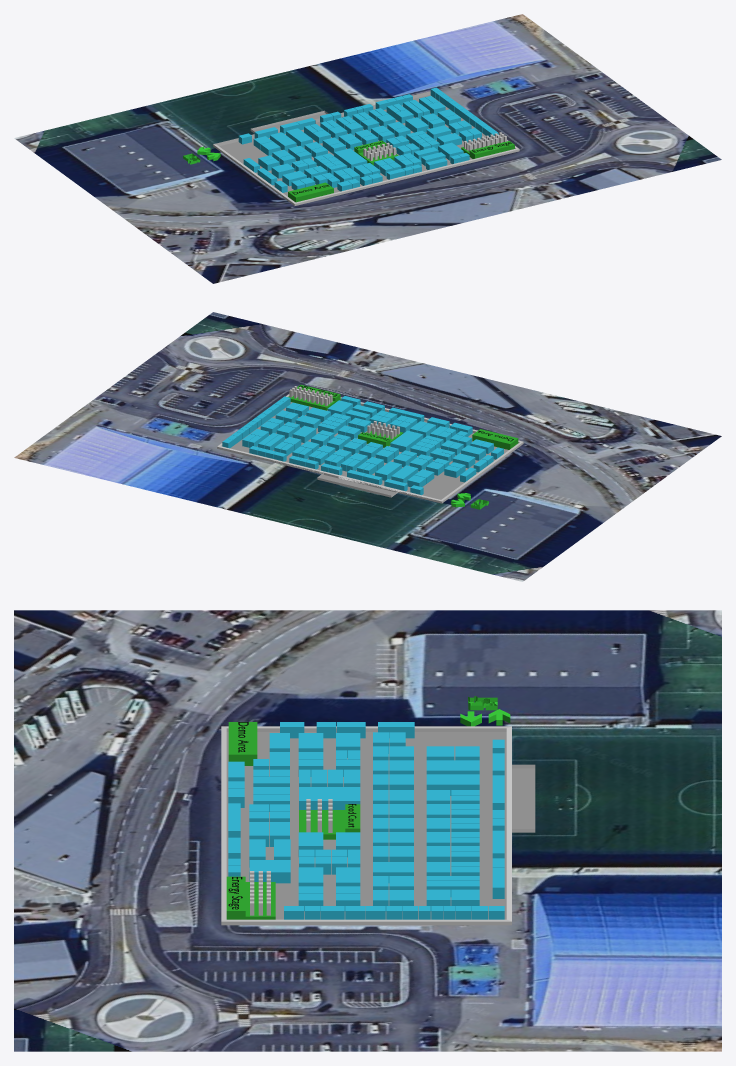
The model's file is OTD Tech Days _Hall_B.glb.
3 renders of one model, top to bottom at view 1: azimuth 30°, elevation 25°; view 2: azimuth 150°, elevation 25°; view 3: azimuth 270°, elevation 25°, orthographic. The views are drawn at different scales.
Visible parts, largest first — view 1: Plane, Logistikk porter_curve_, Logistikk porter_curve_.001, Demo_Area.B-1600, Energy_stage.B-1350; view 2: Plane, Logistikk porter_curve_.001, Logistikk porter_curve_, Demo_Area.B-1600, Energy_stage.B-1350, BOOTHLAYER_curve_.B-4040; view 3: Plane, Logistikk porter_curve_.001, Logistikk porter_curve_, Energy_stage.B-1350, Food_Court.B-4050, BOOTHLAYER_curve_.B-4040, Demo_Area.B-1600, Emergency Exit_curve_.002, BOOTHLAYER_curve_.B-2035, BOOTHLAYER_curve_.B-5100, BOOTHLAYER_curve_.B-2025.
Part boxes in pixels (x1=…): Plane: x1=14, y1=14, x2=721, y2=283; Logistikk porter_curve_: x1=213, y1=91, x2=519, y2=205; Logistikk porter_curve_.001: x1=219, y1=94, x2=485, y2=196; Demo_Area.B-1600: x1=288, y1=182, x2=333, y2=202; Energy_stage.B-1350: x1=461, y1=141, x2=514, y2=158; Plane: x1=14, y1=312, x2=721, y2=581; Logistikk porter_curve_.001: x1=230, y1=402, x2=508, y2=499; Logistikk porter_curve_: x1=217, y1=394, x2=523, y2=503; Demo_Area.B-1600: x1=472, y1=429, x2=518, y2=449; Energy_stage.B-1350: x1=288, y1=384, x2=340, y2=410; BOOTHLAYER_curve_.B-4040: x1=390, y1=430, x2=423, y2=452; Plane: x1=14, y1=610, x2=721, y2=1051; Logistikk porter_curve_.001: x1=226, y1=732, x2=535, y2=919; Logistikk porter_curve_: x1=221, y1=726, x2=535, y2=925; Energy_stage.B-1350: x1=226, y1=876, x2=275, y2=919; Food_Court.B-4050: x1=299, y1=804, x2=360, y2=839; BOOTHLAYER_curve_.B-4040: x1=299, y1=787, x2=360, y2=809; Demo_Area.B-1600: x1=228, y1=722, x2=257, y2=765; Emergency Exit_curve_.002: x1=460, y1=696, x2=510, y2=726; BOOTHLAYER_curve_.B-2035: x1=426, y1=774, x2=479, y2=795; BOOTHLAYER_curve_.B-5100: x1=249, y1=860, x2=290, y2=883; BOOTHLAYER_curve_.B-2025: x1=426, y1=760, x2=479, y2=774.
Size of the model in its own units: 255 by 5.26 by 173.
Materials: 9 (1 with a texture image).
